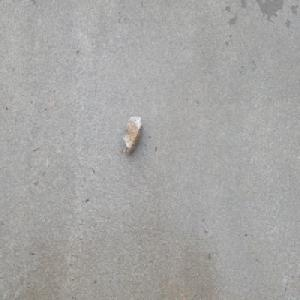Rock: (121, 116, 143, 157)
